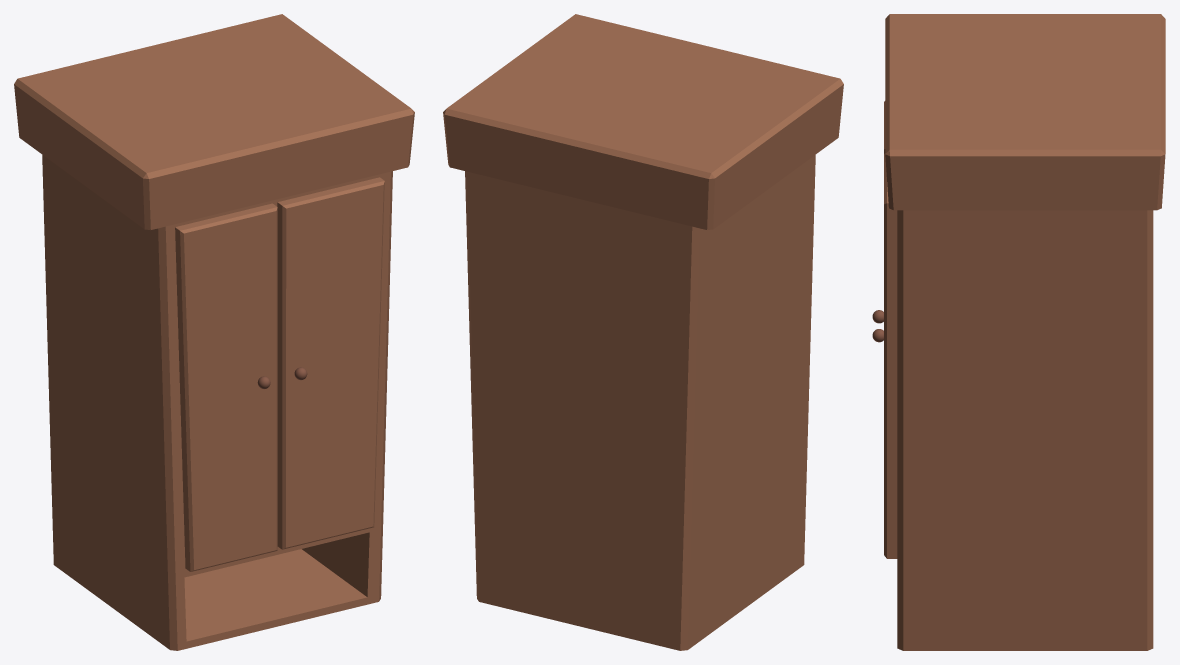
Rendered from Cupboard 1.2.fbx.
3 views of the same model, side by side, from view 1: azimuth 30°, elevation 25°; view 2: azimuth 150°, elevation 25°; view 3: azimuth 270°, elevation 25° (orthographic). The views are drawn at different scales.
Visible parts, largest first — view 1: Cupboard 1.2; view 2: Cupboard 1.2; view 3: Cupboard 1.2.
Boxes of the visible parts, left/top/right/bottom form: Cupboard 1.2: left=14, top=14, right=414, bottom=650; Cupboard 1.2: left=443, top=14, right=843, bottom=650; Cupboard 1.2: left=872, top=14, right=1165, bottom=650.
Bounding box in the file's own units: 258 × 443 × 229.
